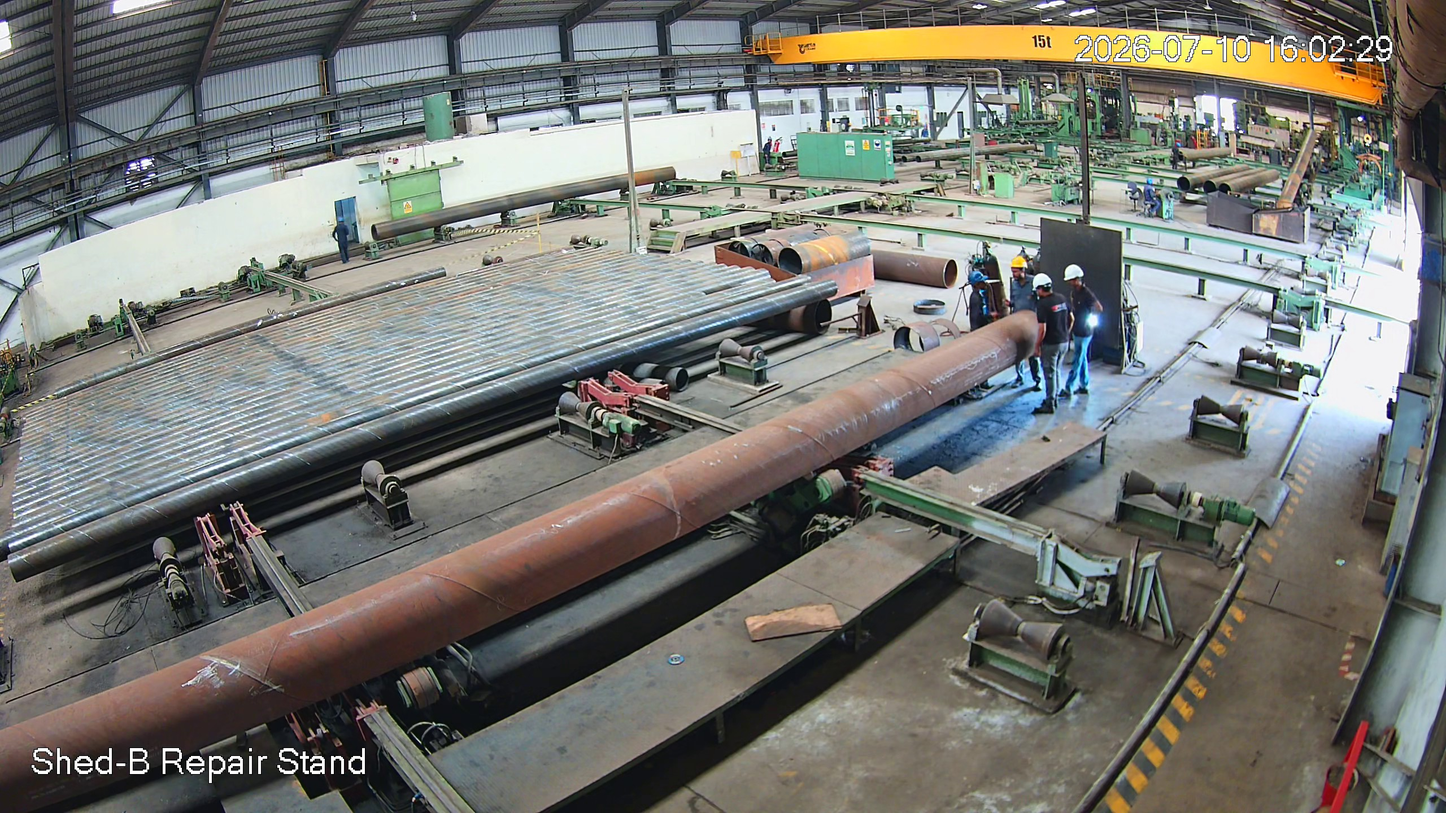Helmet: (1062, 260, 1094, 294), (1031, 271, 1058, 304), (966, 266, 993, 293), (1009, 255, 1032, 282)
Person: (1024, 275, 1072, 412), (1063, 262, 1106, 396), (961, 270, 1007, 331), (1004, 258, 1039, 318)
